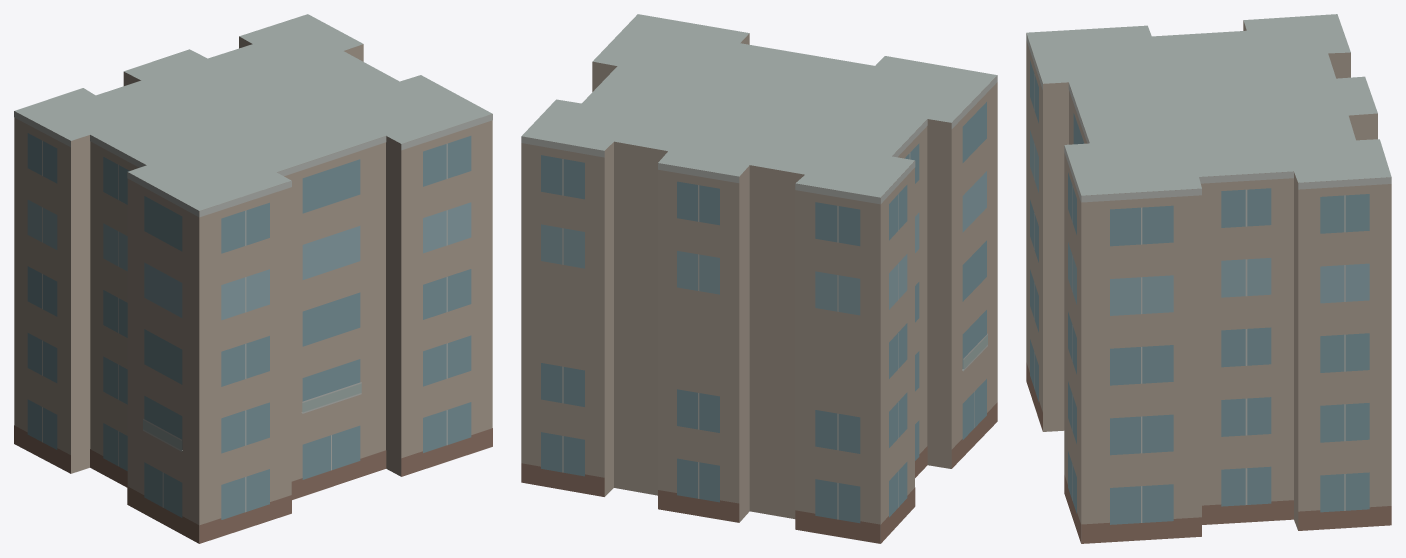
Rendered from survey-upis-32708426.glb.
3 views of the same model, side by side, from view 1: azimuth 30°, elevation 25°; view 2: azimuth 150°, elevation 25°; view 3: azimuth 270°, elevation 25° (orthographic). The views are drawn at different scales.
Visible parts, largest first — view 1: survey-upis-32708426.tmp; view 2: survey-upis-32708426.tmp; view 3: survey-upis-32708426.tmp.
Part boxes in pixels (bbox=[...]): survey-upis-32708426.tmp: bbox=[14, 14, 492, 543]; survey-upis-32708426.tmp: bbox=[521, 14, 997, 543]; survey-upis-32708426.tmp: bbox=[1026, 14, 1391, 543].
Bounding box in the file's own units: 14 × 12.5 × 11.9.
